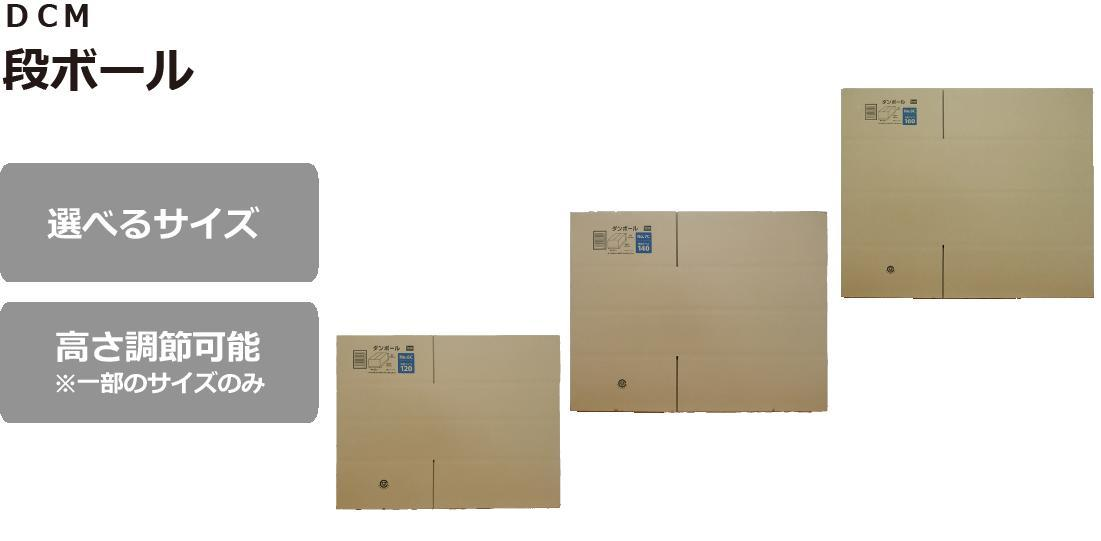box: (842, 88, 1093, 296), (571, 212, 829, 412), (334, 333, 561, 511)
